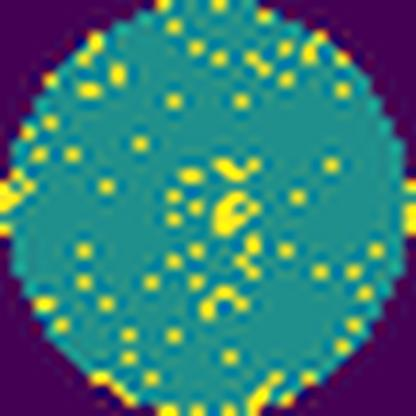Center: (211, 185, 264, 238)
